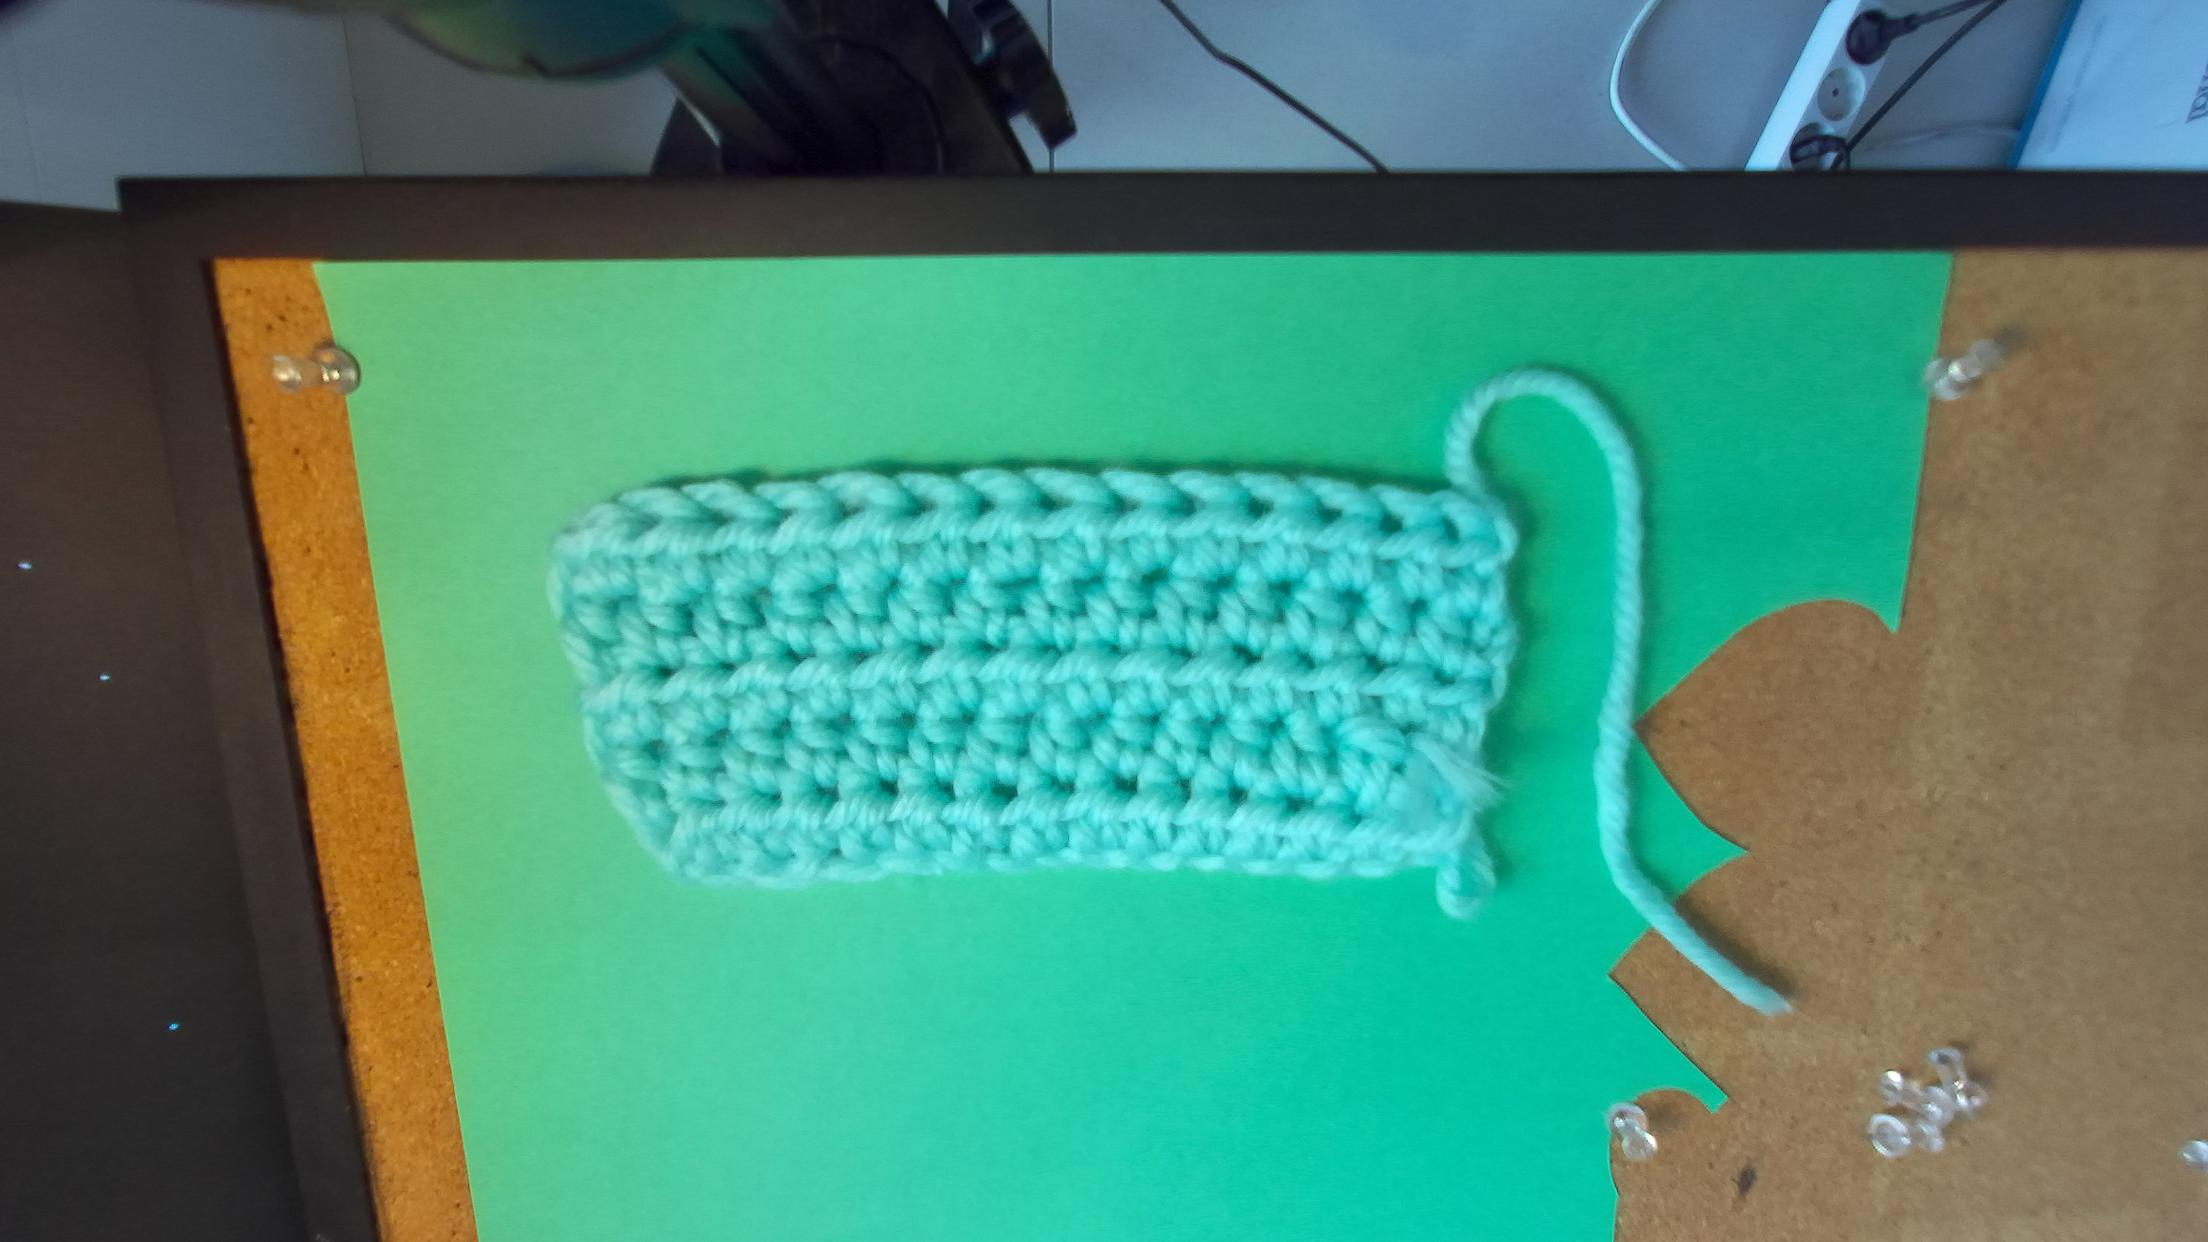hole: (695, 500, 732, 540), (623, 508, 667, 540), (830, 499, 867, 528), (902, 491, 940, 517), (1037, 488, 1075, 514), (1315, 496, 1345, 526), (1378, 507, 1409, 537), (1172, 494, 1207, 519), (1244, 496, 1277, 520), (767, 507, 798, 531), (972, 493, 996, 519), (1109, 494, 1137, 516), (1441, 514, 1460, 543)
swatch: (544, 467, 1520, 895)
